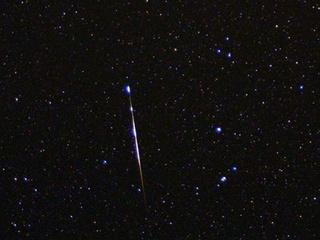meteorite: (122, 82, 151, 205)
